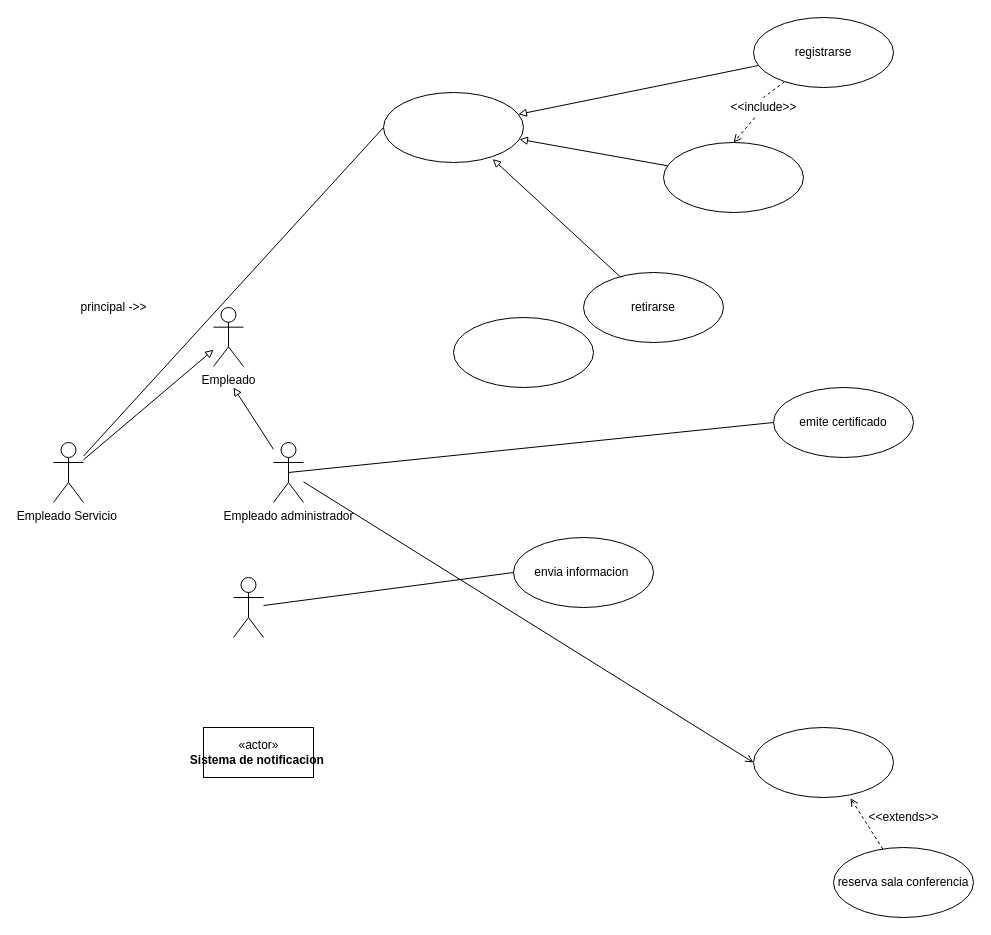
Some shapes in this 991 by 935 pixel diagram are drawn without their labels. The centre of each missing label's shape, as x and y in pixels:
"crea curso" goes at (823,762).
"emite informacion" goes at (523,352).
"matricularse" goes at (733,177).
"Profesor" goes at (248,607).
"{abstract} administrar datos estudiante" goes at (453,127).
